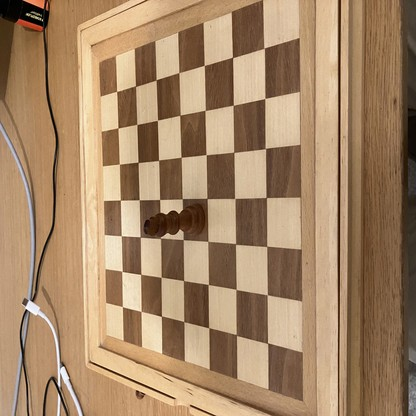king_black: (145, 206, 205, 239)
